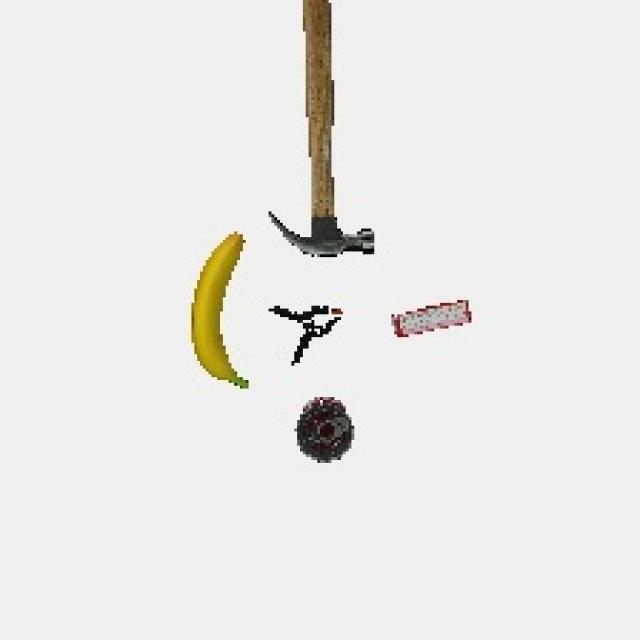Banana: (177, 226, 258, 400)
GelatinBox: (383, 294, 482, 348)
Hammer: (263, 0, 393, 266)
MediumClamp: (266, 298, 351, 370)
TomatoSoupCan: (286, 393, 364, 468)
